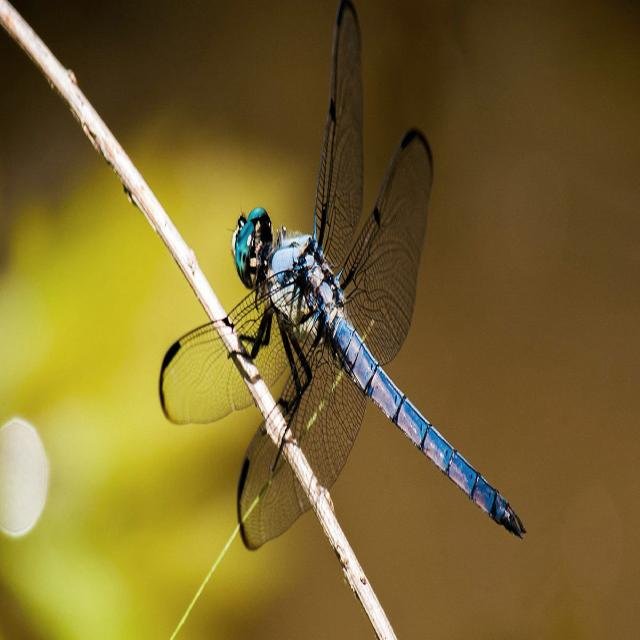dragonfly: (160, 0, 526, 548)
